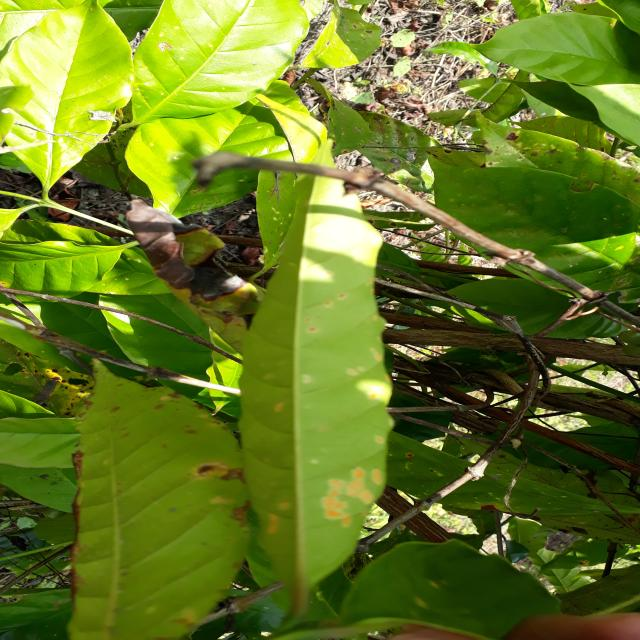Enfermedad-Roya: (243, 177, 393, 616)
